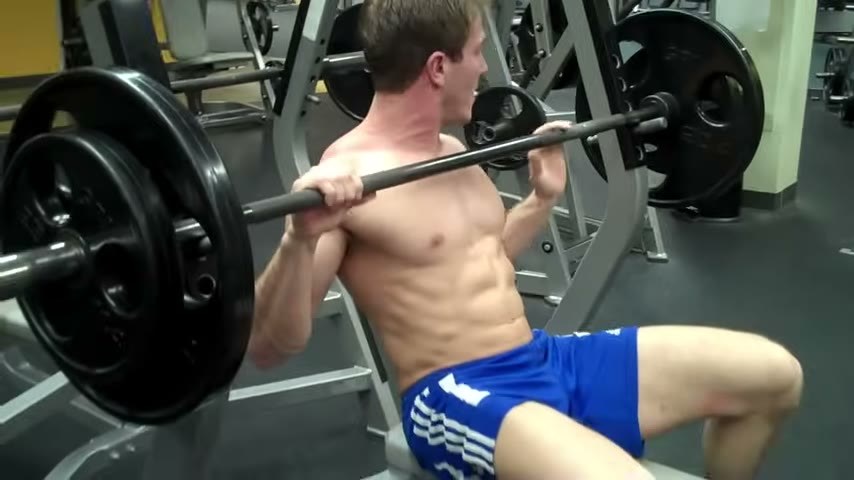barbell_plate_side: (608, 3, 784, 315), (0, 66, 99, 479)
